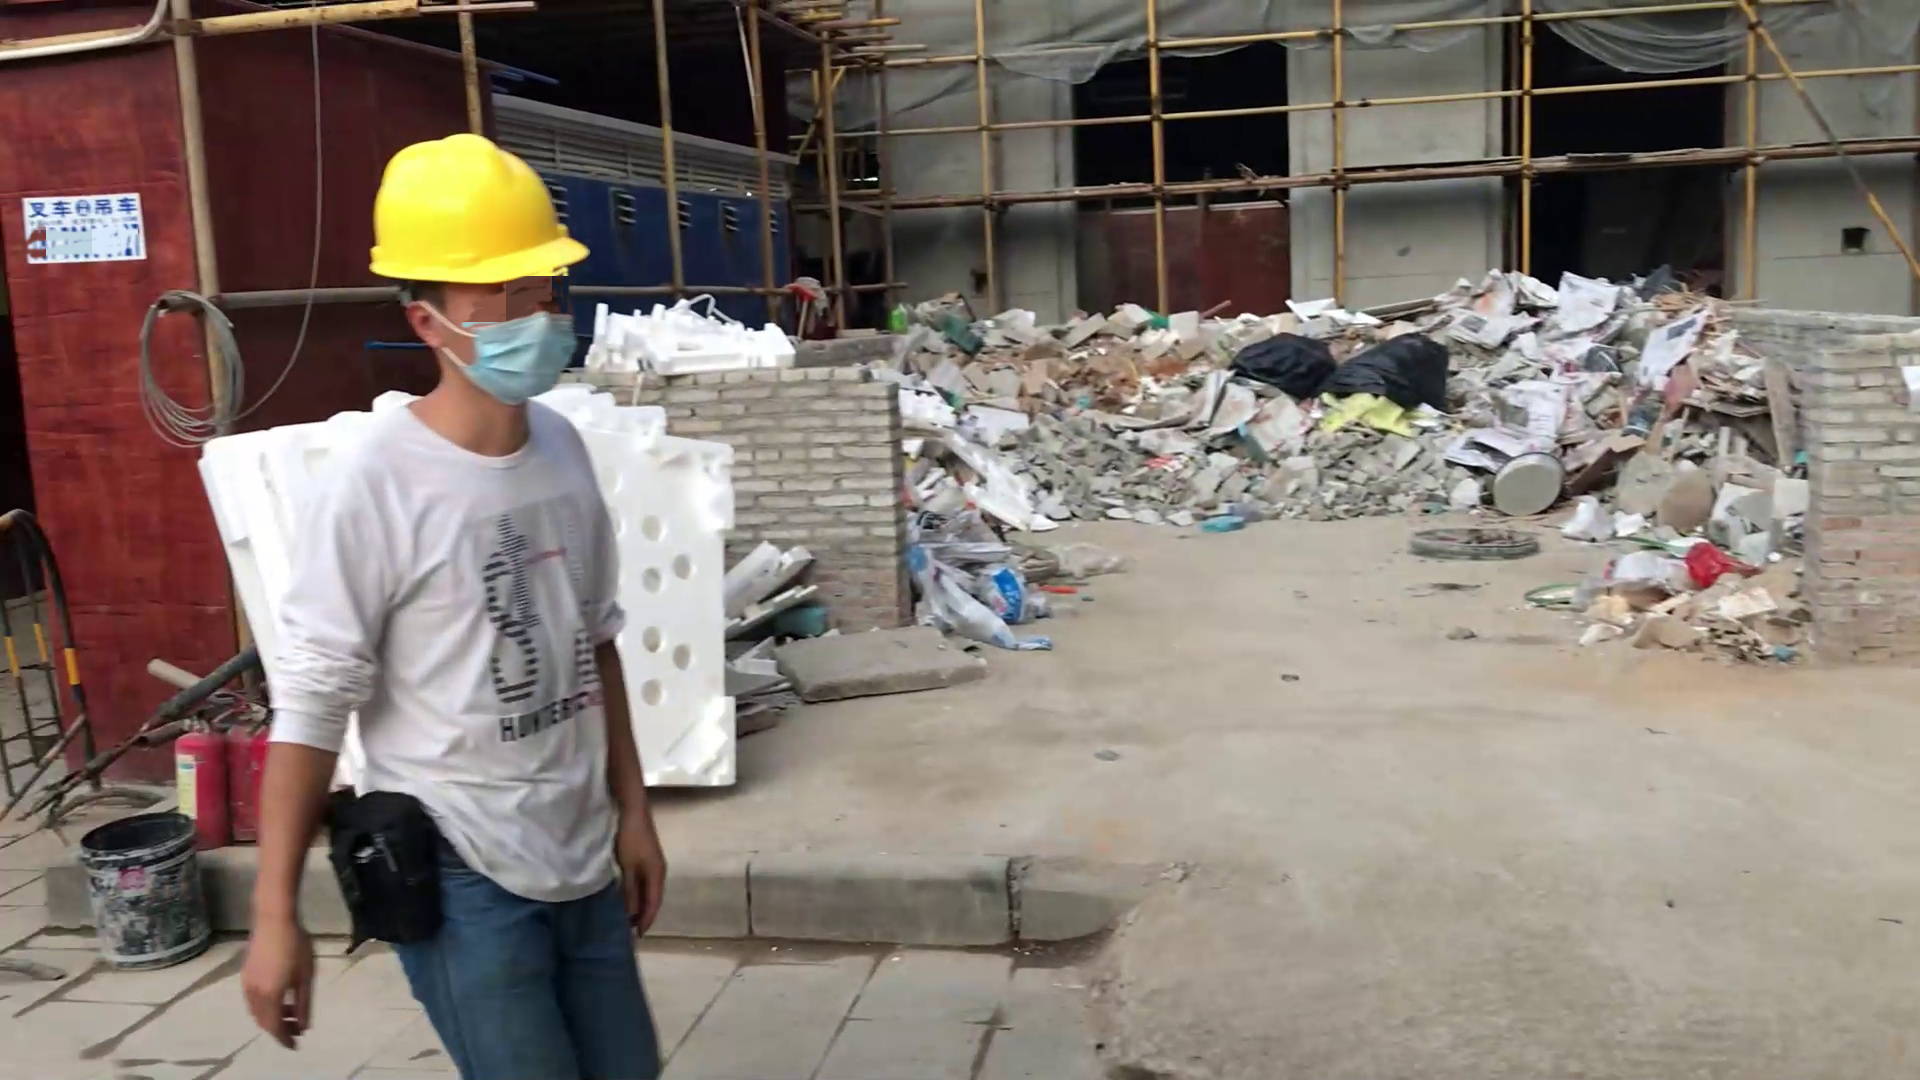helmet: (349, 119, 619, 290)
person: (215, 106, 799, 1080)
